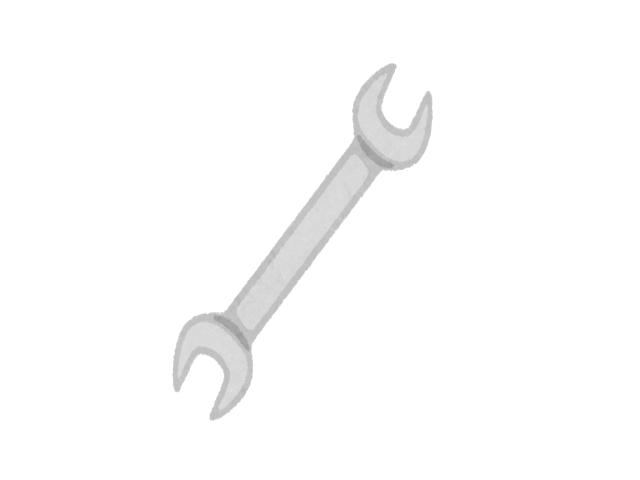Wrench: (172, 63, 432, 420)
